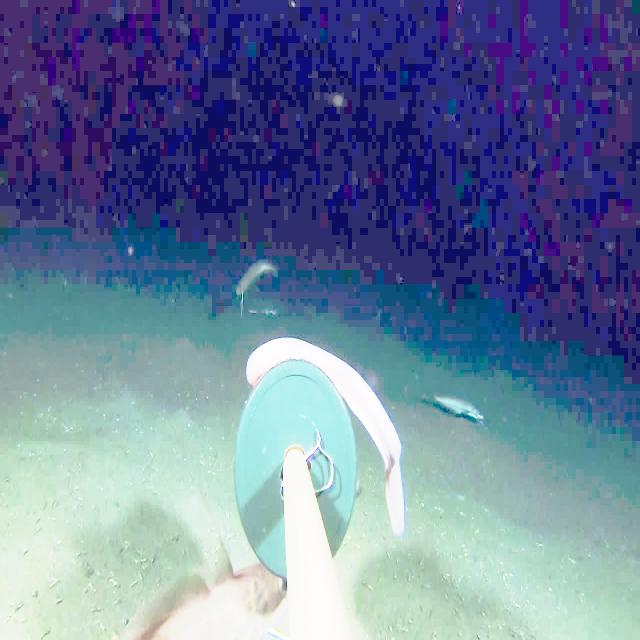eel: (242, 327, 413, 552)
fish: (112, 548, 296, 640), (421, 382, 497, 438), (227, 259, 284, 311)
pole: (230, 364, 360, 639)
